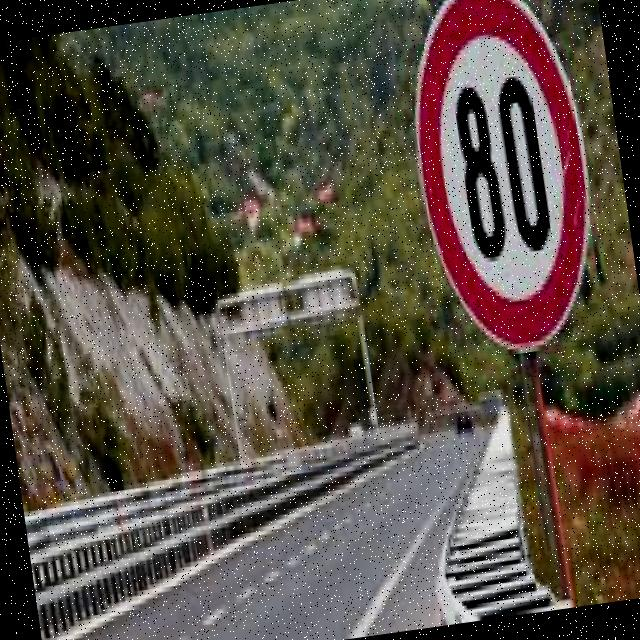Ograniczenie predkosci do 80: (399, 0, 612, 375)
